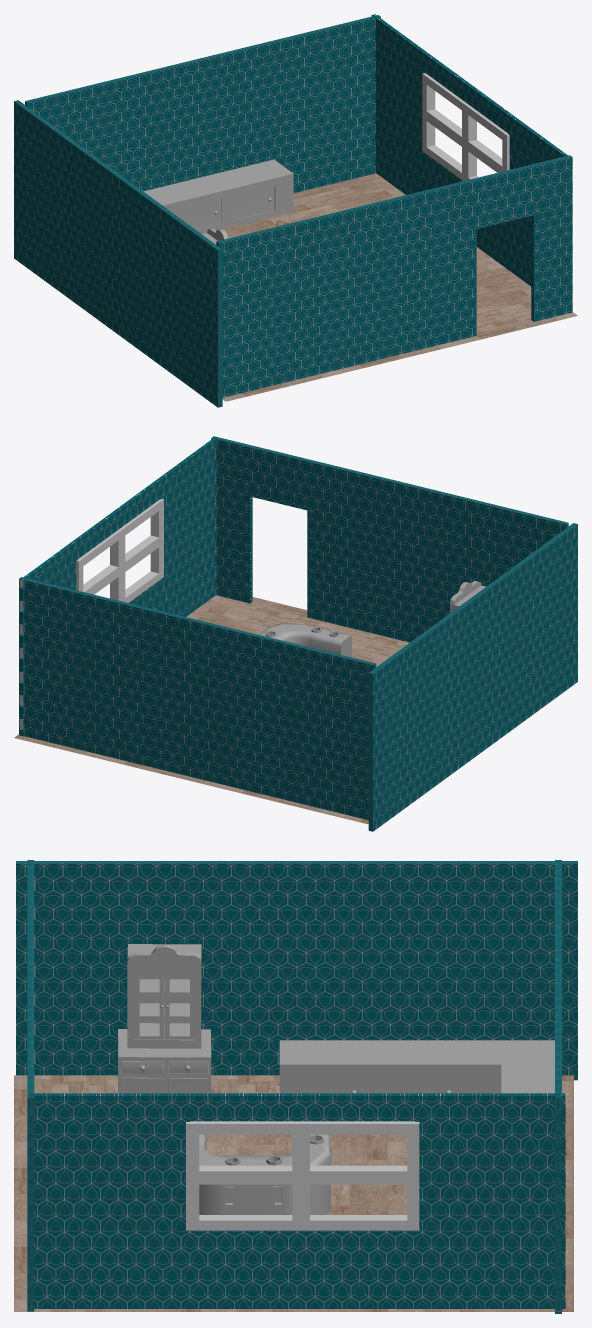
The model's file is Cocina.fbx.
3 renders of one model, top to bottom at view 1: azimuth 30°, elevation 25°; view 2: azimuth 150°, elevation 25°; view 3: azimuth 270°, elevation 25°, orthographic. The views are drawn at different scales.
Parts seen in each view (by area): view 1: Pared4, Pared3, Pared5, PAred1, Piso1, BarraSinPuertas, Ventana1, pCube37, pCube36; view 2: Pared3, Pared4, Pared5, PAred1, Piso1, Ventana1, pCylinder8, Mueble_Mueble; view 3: Pared5, PAred1, Piso1, Ventana1, BarraSinPuertas, Mueble_Mueble, pCylinder8, Pared4, Pared3, pCube34, pCube33, pCube19 (+3 smaller).
Boxes of the visible parts, box(x1,y1,x2,y2) form: Pared4: box(216, 155, 572, 397); Pared3: box(25, 15, 380, 193); Pared5: box(14, 100, 222, 407); PAred1: box(371, 14, 569, 286); Piso1: box(222, 173, 577, 401); BarraSinPuertas: box(143, 159, 293, 233); Ventana1: box(422, 73, 509, 180); pCube37: box(235, 186, 274, 219); pCube36: box(179, 199, 220, 229); Pared3: box(19, 577, 376, 819); Pared4: box(211, 436, 568, 642); Pared5: box(368, 523, 577, 831); PAred1: box(19, 437, 218, 735); Piso1: box(14, 595, 409, 823); Ventana1: box(76, 498, 163, 602); pCylinder8: box(258, 623, 351, 657); Mueble_Mueble: box(450, 580, 485, 612); Pared5: box(16, 861, 577, 1080); PAred1: box(29, 1093, 565, 1308); Piso1: box(14, 1075, 573, 1311); Ventana1: box(186, 1121, 419, 1230); BarraSinPuertas: box(279, 1040, 554, 1093); Mueble_Mueble: box(118, 944, 211, 1093); pCylinder8: box(199, 1134, 331, 1214); Pared4: box(27, 860, 34, 1311); Pared3: box(555, 860, 561, 1313); pCube34: box(389, 1075, 456, 1093); pCube33: box(301, 1075, 361, 1093); pCube19: box(135, 971, 164, 1039).
Size of the model in its own units: 19.69 by 8.41 by 19.45.
